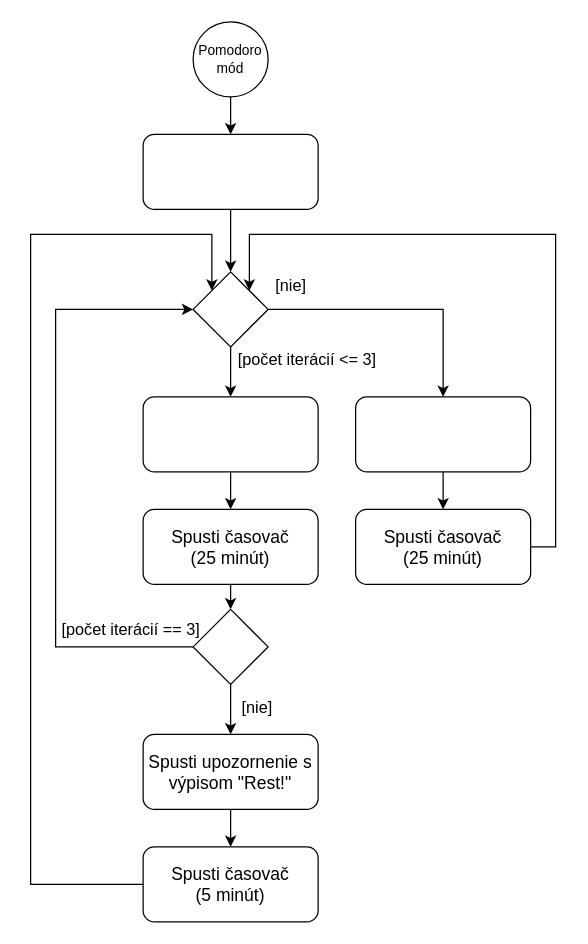
The diagram is 588 pixels wide and 944 high, and some of its shapes have lost their labels. Here are the shapes that lost their labels. From the top down, the box of each, then its label:
(142, 133, 318, 209): Vypíš úvodný Pomodoro text na displej
(142, 396, 318, 472): Spusti upozornenie s výpisom "Work!"
(354, 396, 531, 472): Spusti upozornenie s výpisom "Long rest"
